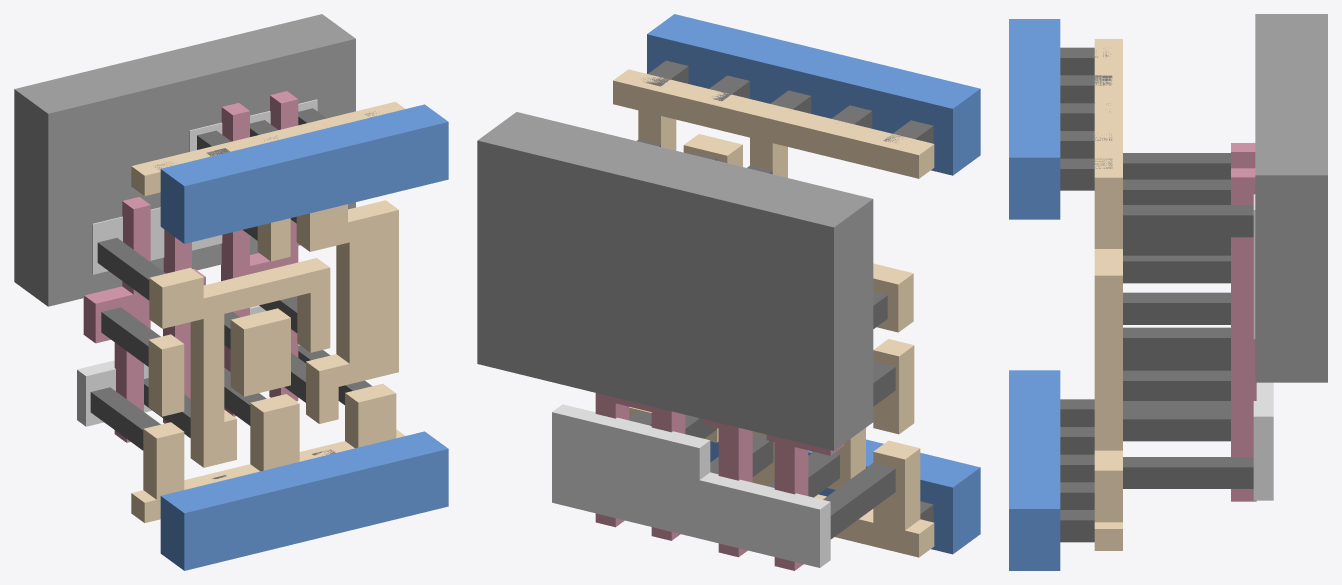
The model's file is sky130_fd_sc_hd__or2_2.gds.gltf.
3 renders of one model, left to right at view 1: azimuth 30°, elevation 25°; view 2: azimuth 150°, elevation 25°; view 3: azimuth 270°, elevation 25°, orthographic. The views are drawn at different scales.
Visible parts, largest first — view 1: sky130_fd_sc_hd__or2_2_li1, sky130_fd_sc_hd__or2_2_met1, sky130_fd_sc_hd__or2_2_nwell, sky130_fd_sc_hd__or2_2_poly, sky130_fd_sc_hd__or2_2_licon, sky130_fd_sc_hd__or2_2_diff; view 2: sky130_fd_sc_hd__or2_2_nwell, sky130_fd_sc_hd__or2_2_li1, sky130_fd_sc_hd__or2_2_met1, sky130_fd_sc_hd__or2_2_diff, sky130_fd_sc_hd__or2_2_licon, sky130_fd_sc_hd__or2_2_poly, sky130_fd_sc_hd__or2_2_mcon; view 3: sky130_fd_sc_hd__or2_2_licon, sky130_fd_sc_hd__or2_2_nwell, sky130_fd_sc_hd__or2_2_met1, sky130_fd_sc_hd__or2_2_li1, sky130_fd_sc_hd__or2_2_mcon, sky130_fd_sc_hd__or2_2_poly, sky130_fd_sc_hd__or2_2_diff.
Part boxes in pixels (x1=…): sky130_fd_sc_hd__or2_2_li1: x1=131, y1=101, x2=404, y2=522; sky130_fd_sc_hd__or2_2_met1: x1=160, y1=104, x2=448, y2=570; sky130_fd_sc_hd__or2_2_nwell: x1=14, y1=14, x2=355, y2=306; sky130_fd_sc_hd__or2_2_poly: x1=83, y1=91, x2=298, y2=442; sky130_fd_sc_hd__or2_2_licon: x1=90, y1=108, x2=372, y2=450; sky130_fd_sc_hd__or2_2_diff: x1=77, y1=99, x2=317, y2=426; sky130_fd_sc_hd__or2_2_nwell: x1=477, y1=112, x2=873, y2=450; sky130_fd_sc_hd__or2_2_li1: x1=613, y1=69, x2=934, y2=557; sky130_fd_sc_hd__or2_2_met1: x1=647, y1=14, x2=980, y2=554; sky130_fd_sc_hd__or2_2_diff: x1=552, y1=404, x2=830, y2=567; sky130_fd_sc_hd__or2_2_licon: x1=629, y1=139, x2=895, y2=539; sky130_fd_sc_hd__or2_2_poly: x1=595, y1=393, x2=844, y2=570; sky130_fd_sc_hd__or2_2_mcon: x1=641, y1=60, x2=933, y2=522; sky130_fd_sc_hd__or2_2_licon: x1=1123, y1=153, x2=1253, y2=488; sky130_fd_sc_hd__or2_2_nwell: x1=1255, y1=14, x2=1327, y2=382; sky130_fd_sc_hd__or2_2_met1: x1=1009, y1=19, x2=1060, y2=570; sky130_fd_sc_hd__or2_2_li1: x1=1094, y1=39, x2=1122, y2=550; sky130_fd_sc_hd__or2_2_mcon: x1=1060, y1=47, x2=1112, y2=542; sky130_fd_sc_hd__or2_2_poly: x1=1231, y1=143, x2=1256, y2=501; sky130_fd_sc_hd__or2_2_diff: x1=1253, y1=194, x2=1273, y2=500.
Size of the model in its own units: 2.68 by 3.2 by 2.24.
